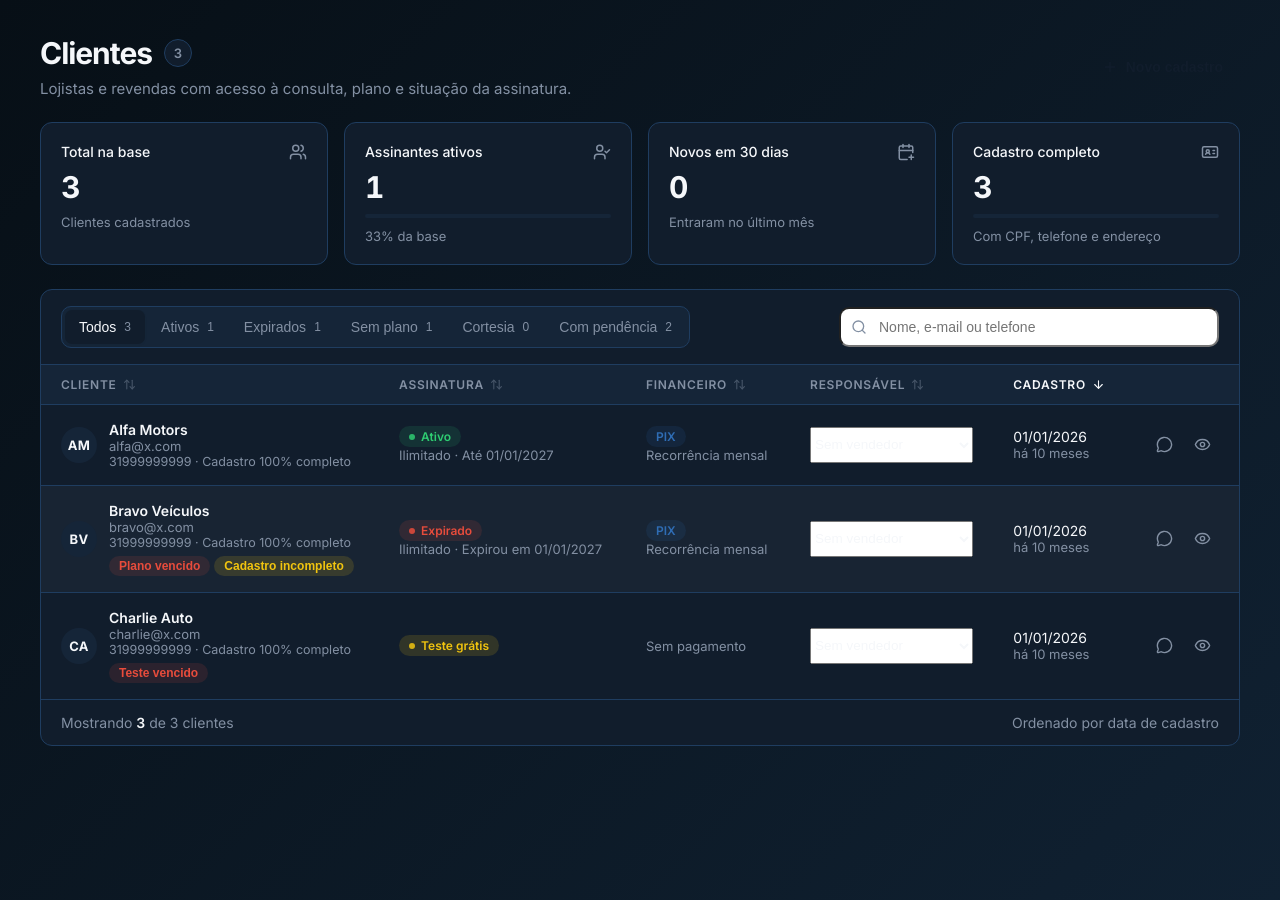
CRM: pendências na lista › o selo abre a ficha na aba que resolve a pendência
The image size is (1280, 900).
Expected: the text "Alfa Motors" is shown, [109,420,188,438]
Click the button with aria-label "Pendência: Plano vencido" at x=160, y=566, box [109,556,210,576]
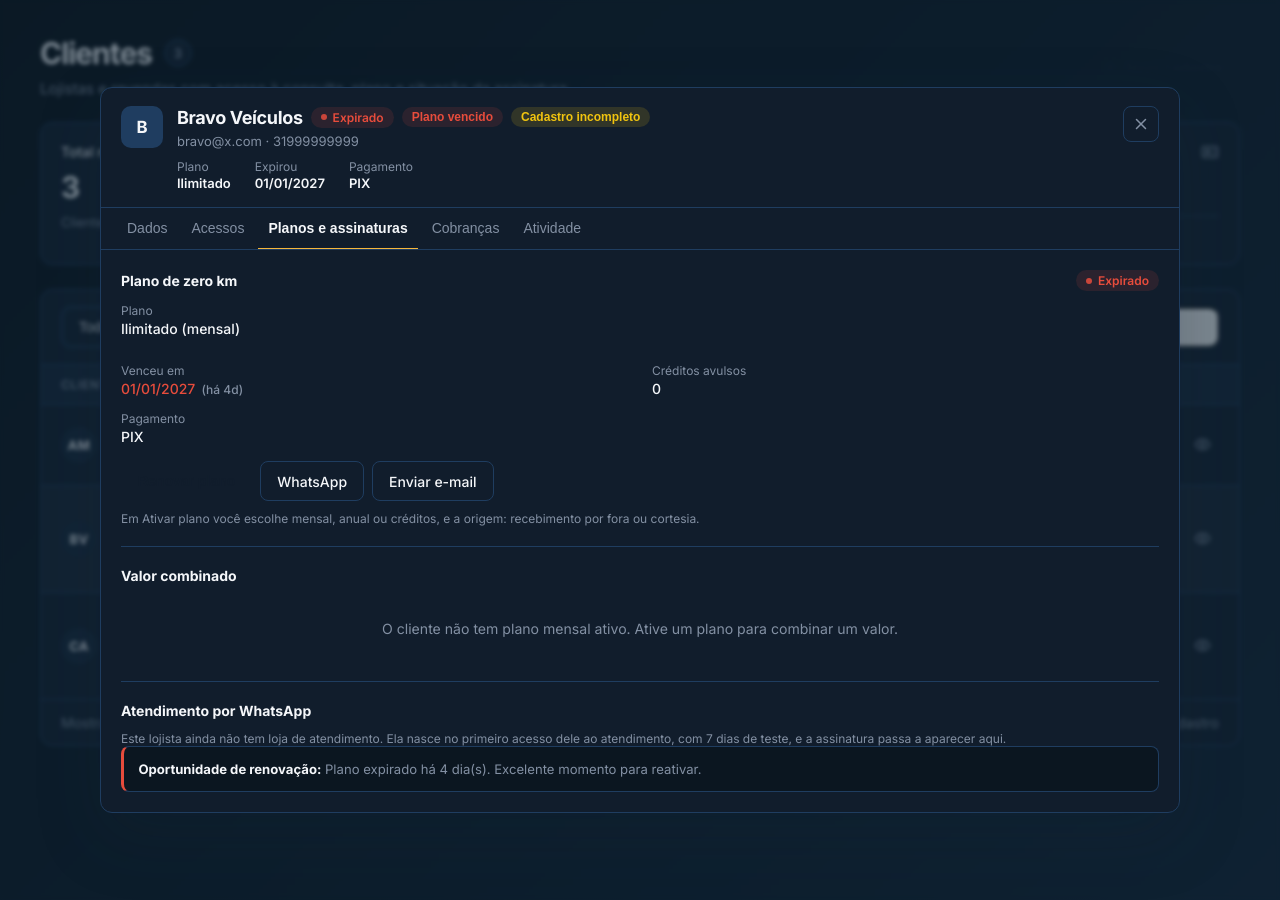
Expected: the heading "Bravo Veículos" is shown, [177,106,303,129]
